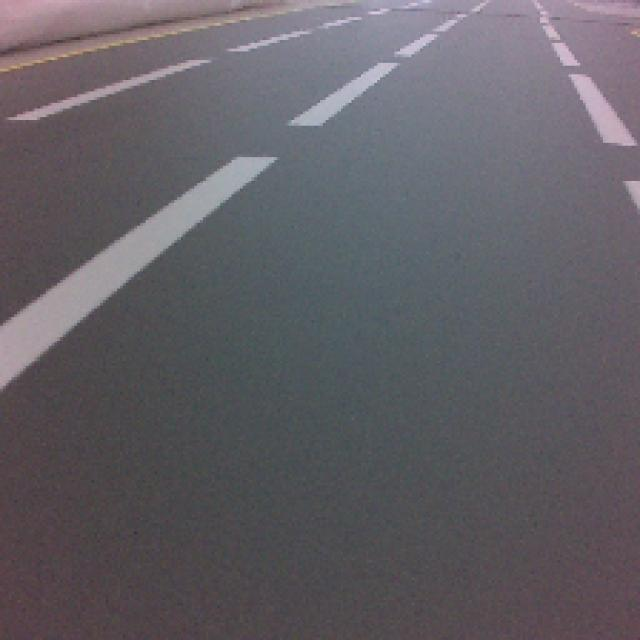Road: (0, 270, 640, 640)
